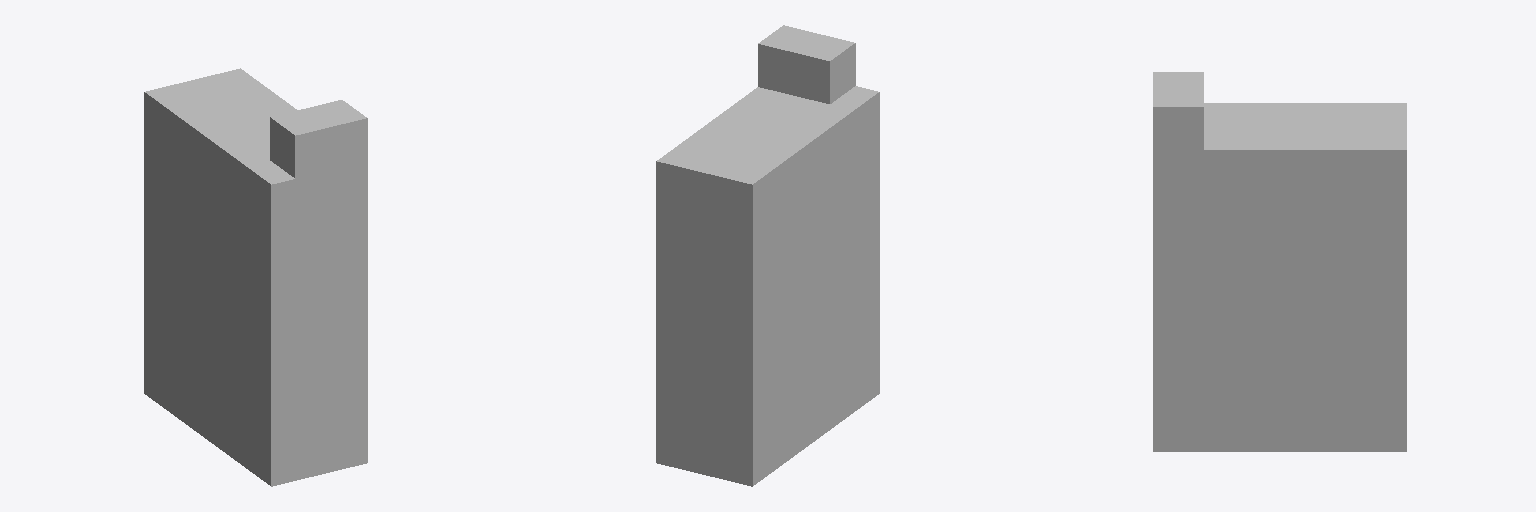
File: TallWideCollider.obj
3 views of the same model, side by side, from view 1: azimuth 30°, elevation 25°; view 2: azimuth 150°, elevation 25°; view 3: azimuth 270°, elevation 25° (orthographic).
Visible parts, largest first — view 1: Box089, Box090; view 2: Box089, Box090; view 3: Box089, Box090.
Part boxes in pixels (bbox=[...]): Box089: bbox=[144, 68, 367, 486]; Box090: bbox=[270, 100, 367, 178]; Box089: bbox=[656, 86, 879, 486]; Box090: bbox=[758, 25, 855, 103]; Box089: bbox=[1153, 103, 1406, 451]; Box090: bbox=[1153, 72, 1203, 149].
Size of the model in its own units: 2.76 by 9.45 by 6.3.